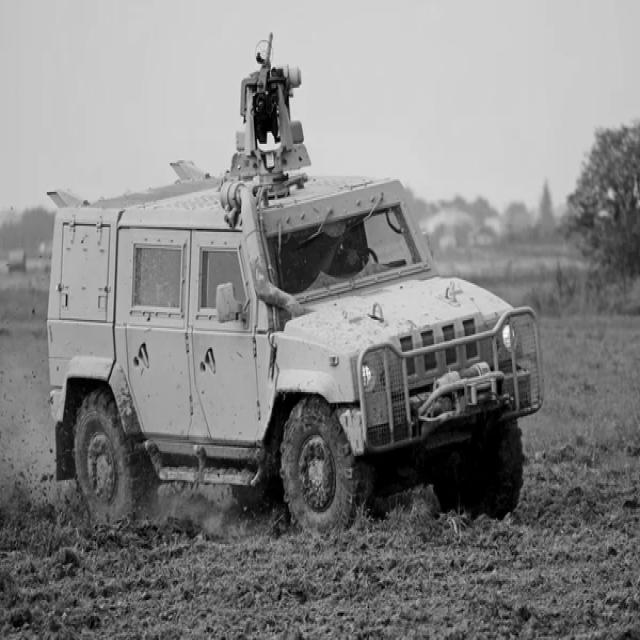Car: (47, 43, 545, 529)
